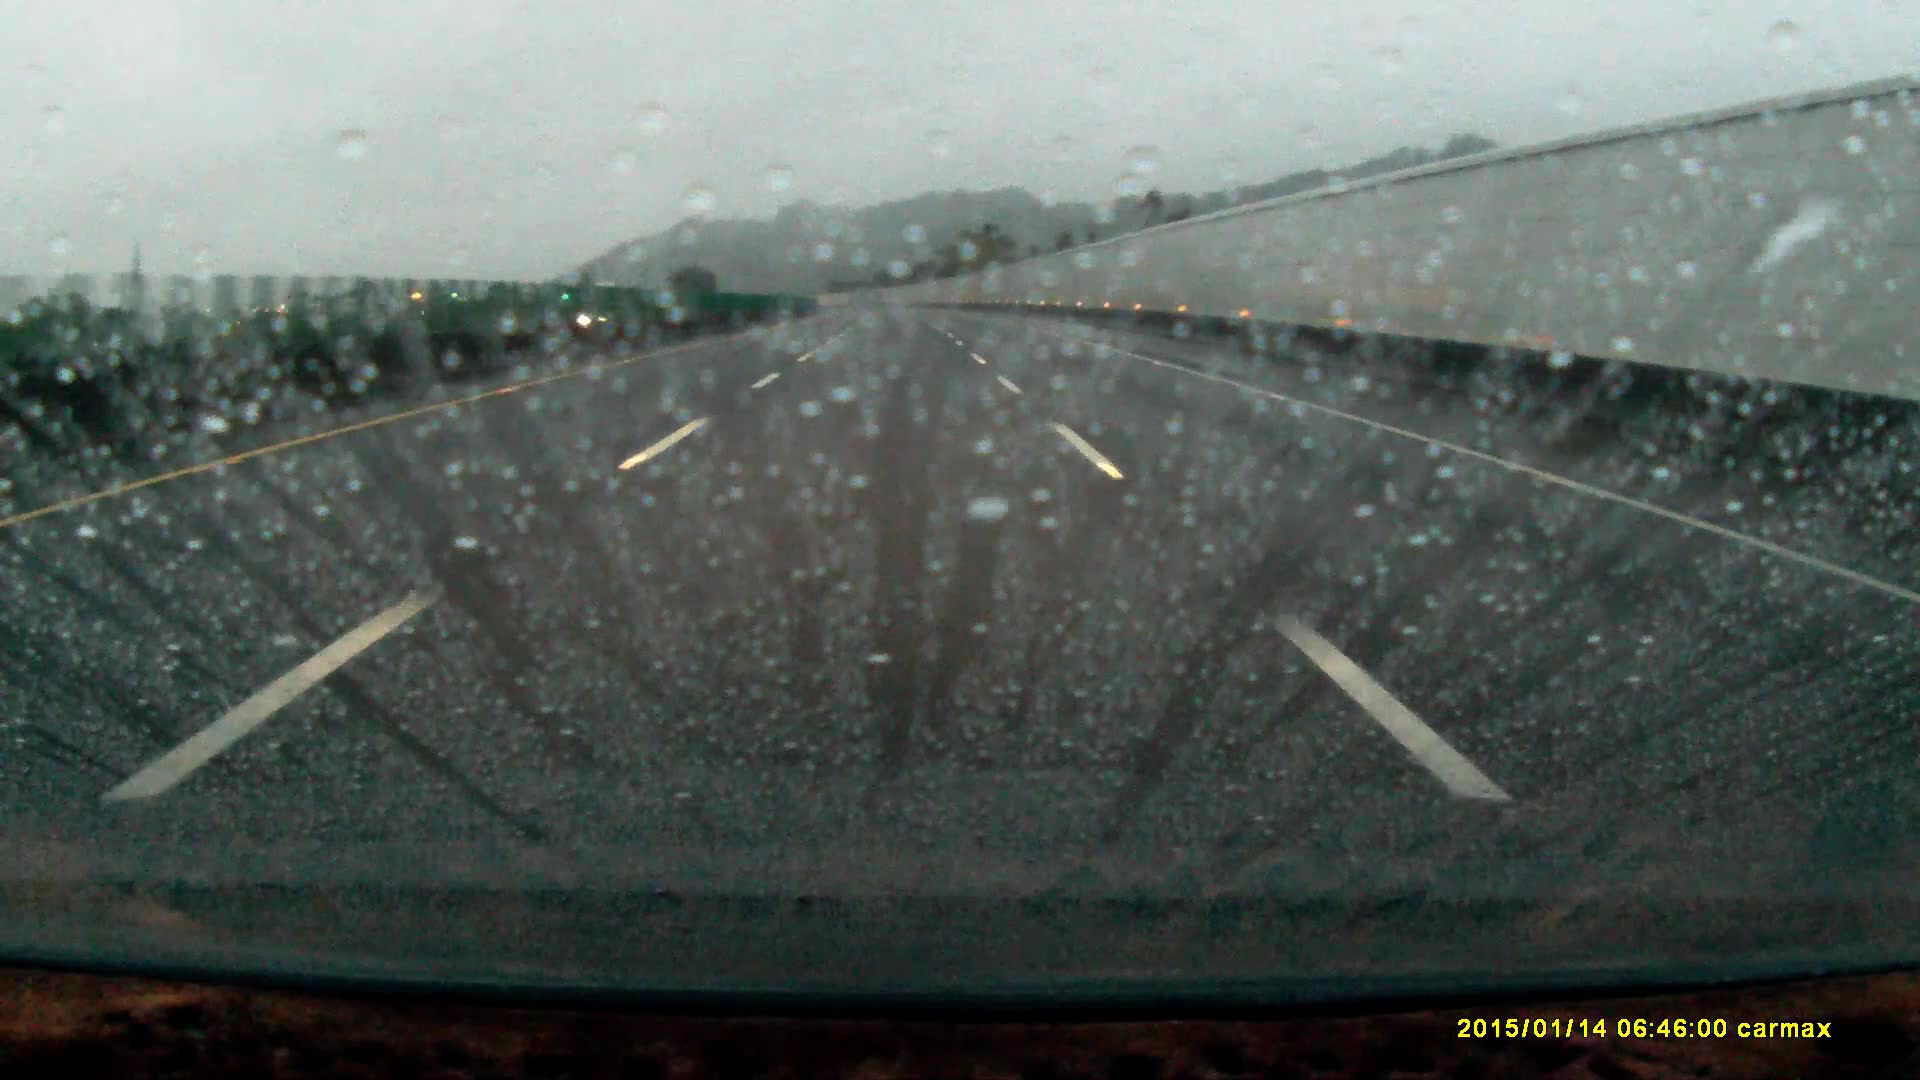vehicle: (578, 295, 626, 326)
